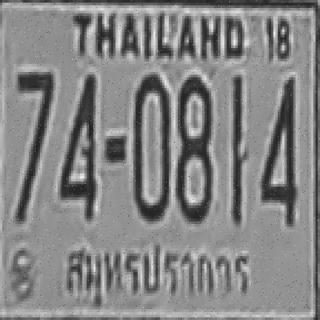N04: (259, 75, 297, 224), (58, 72, 96, 219)
N07: (16, 69, 54, 165)
N08: (174, 75, 212, 222)
P57: (51, 237, 257, 307)
